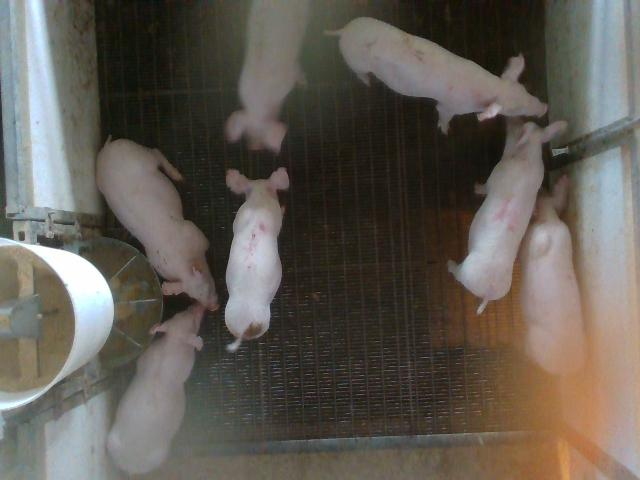pig-3: (225, 0, 310, 153)
pig-4: (449, 116, 566, 313)
pig-5: (225, 168, 289, 352)
